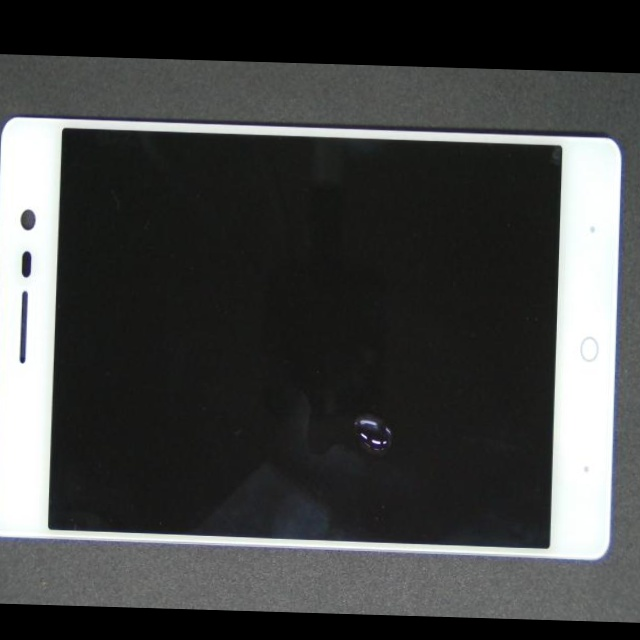oil: (170, 244, 618, 610)
